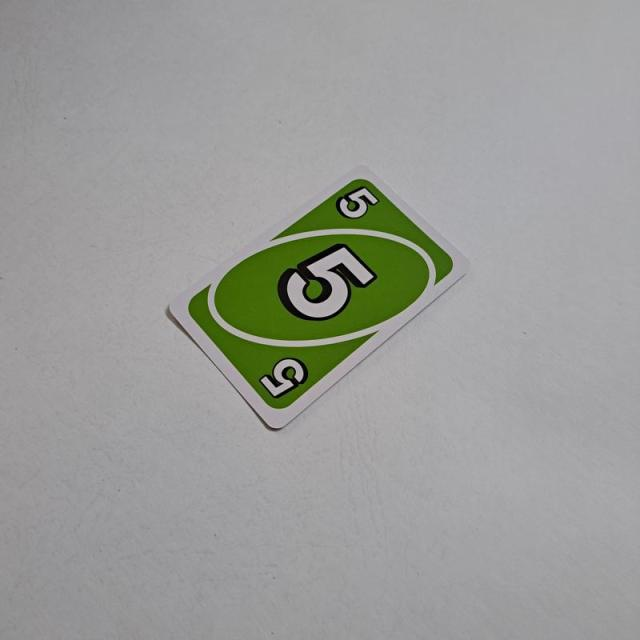Green_Card: (185, 172, 460, 414)
Number_5: (332, 180, 387, 221)
